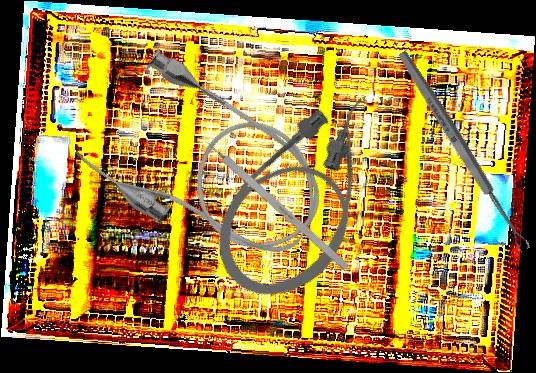Cannula: (66, 40, 347, 292), (192, 74, 422, 321)
Hook Surgical: (192, 127, 350, 272)
Surgical Spoon: (395, 48, 532, 255)
